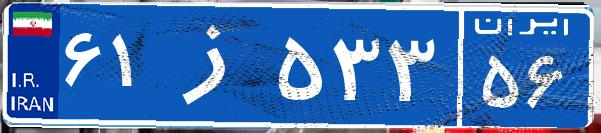1: (110, 28, 158, 105)
3: (385, 28, 445, 110), (330, 28, 385, 110)
5: (273, 28, 330, 110), (475, 38, 525, 113)
6: (57, 26, 110, 107), (525, 38, 570, 115)
ز: (158, 15, 273, 115)
